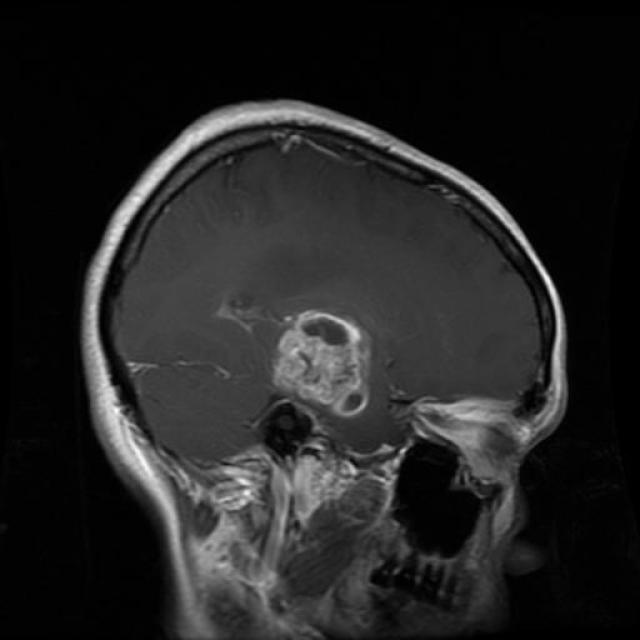glioma: (269, 309, 389, 425)
